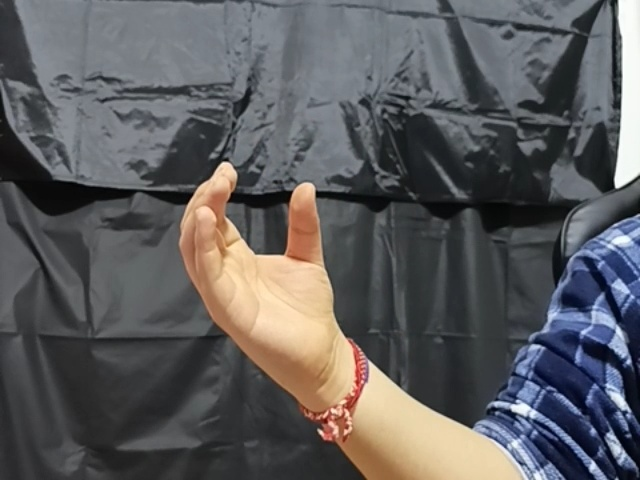C: (178, 158, 350, 369)
